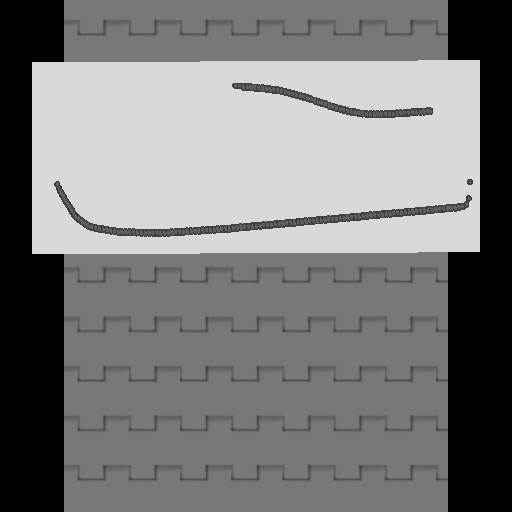Defect: (52, 77, 233, 184)
